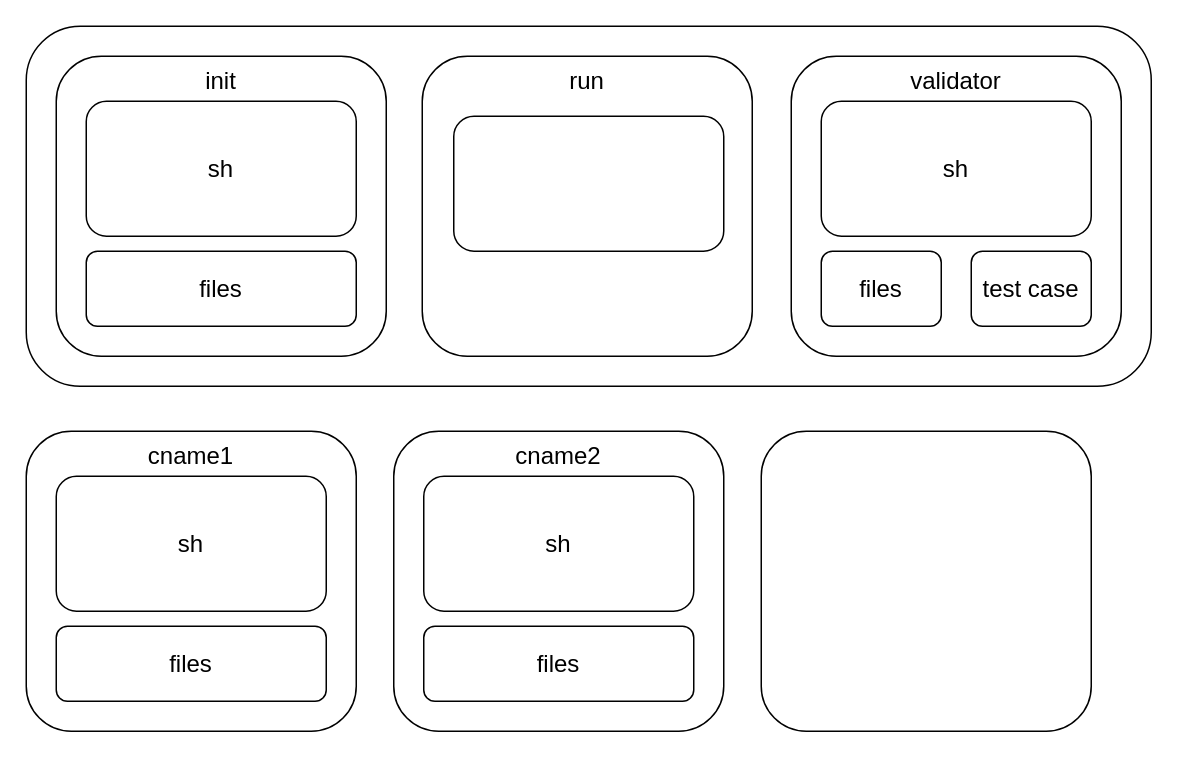
Some shapes in this 1178 by 758 pixel diagram are drawn without their labels. Each missing label, with the centre of its shape:
env: pixel 588 183
new: pixel 925 580
